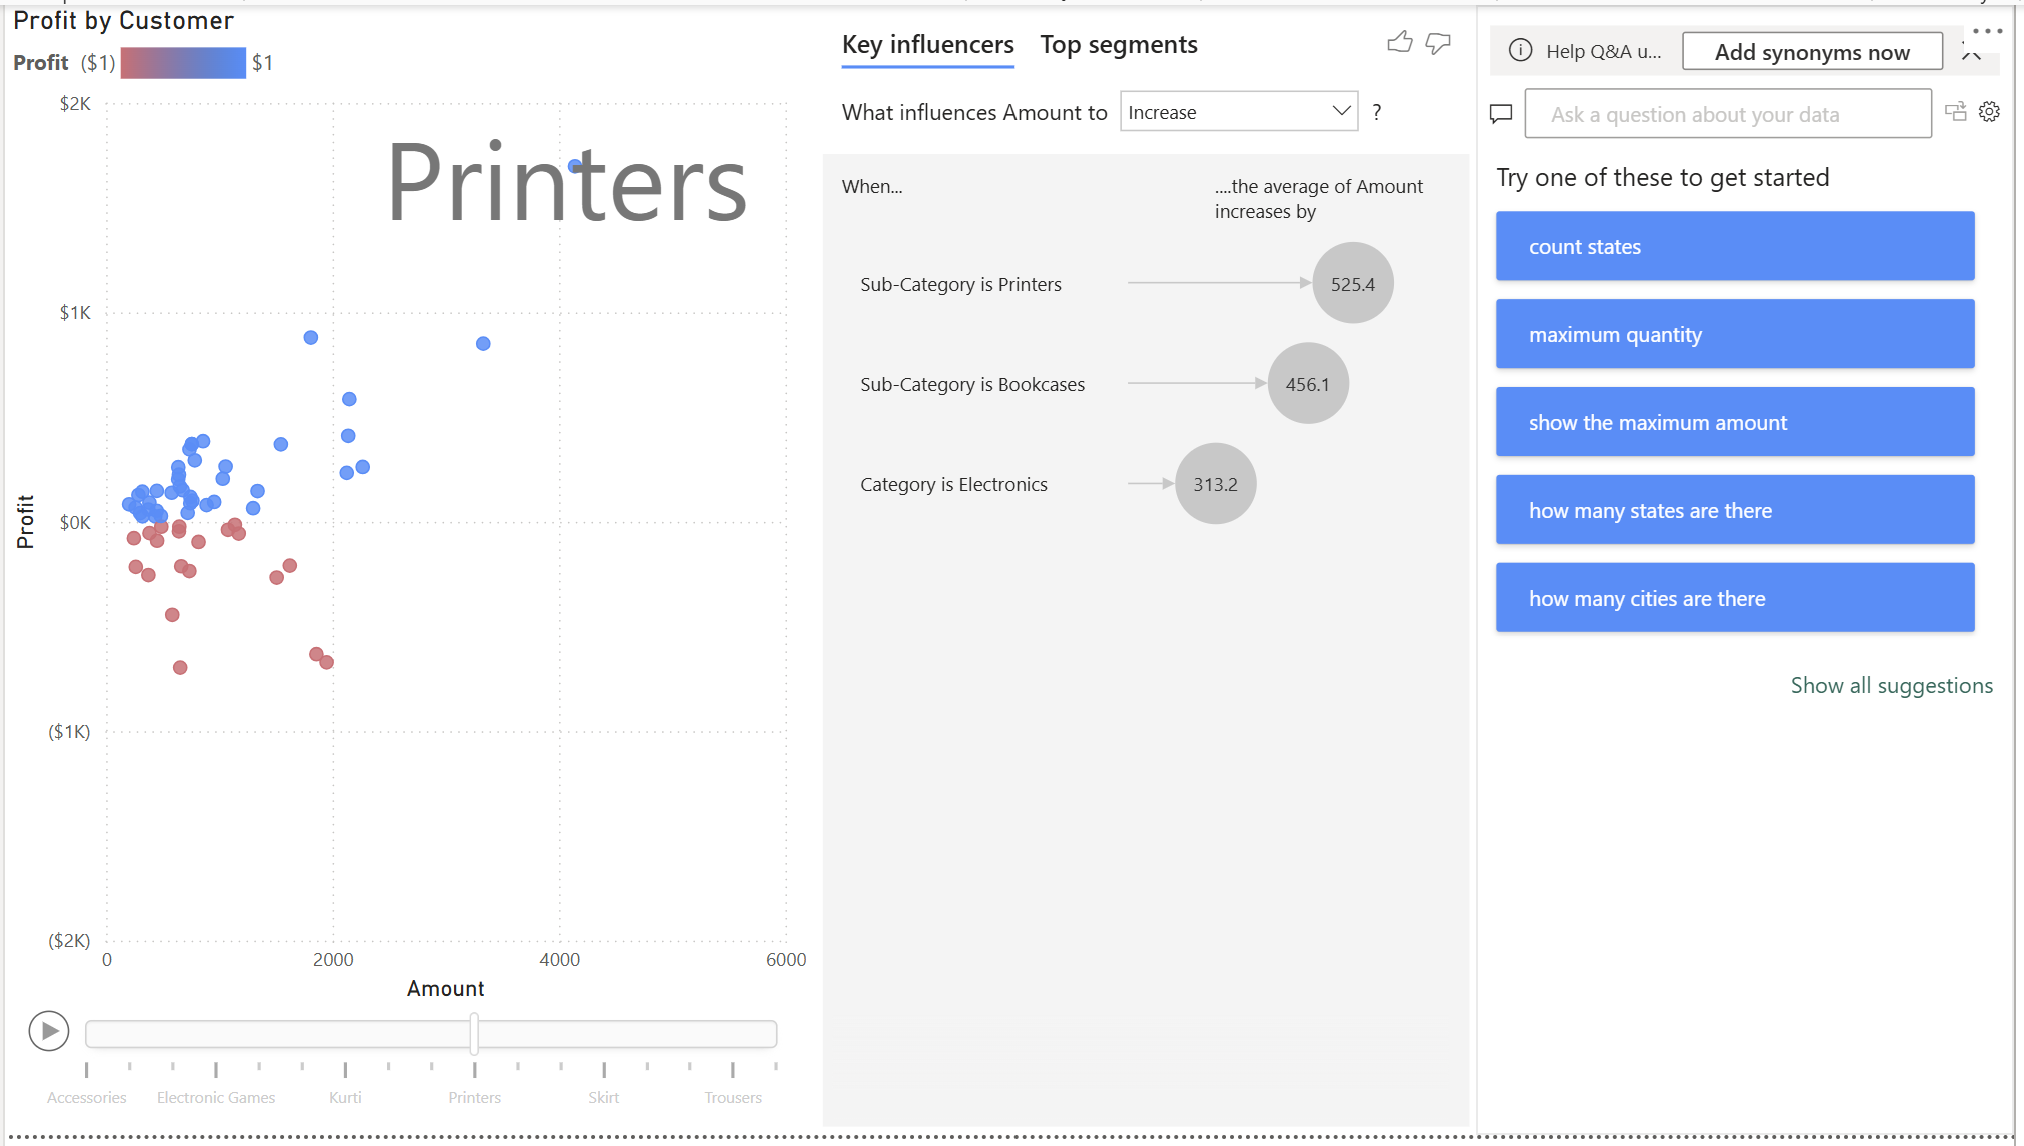

This screenshot's page, from the dashboard's own definition file:
{"tool":"powerbi","page":{"name":"Profit Insights","canvas":[1280,720],"ordinal":1},"visuals":[{"type":"scatterChart","title":"Profit by Customer","fields":{"Category":["List of Orders.CustomerName"],"X":["Sum(Order Details.Amount)"],"Y":["Sum(Order Details.Profit)"],"Play":["Order Details.Sub-Category"]},"box":[0,0,515.7,720],"z":0},{"type":"keyDriversVisual","fields":{"Target":["Order Details.Amount"],"ExplainBy":["Order Details.Category","Order Details.Sub-Category"]},"box":[515.7,0,421.4,720],"z":1000},{"type":"qnaVisual","box":[937.1,0,342.9,720],"z":2000}]}

Visuals, with their boxes on the page's 1280x720 design canvas (x1, y1, x2, y2). These are canvas units, not pixel positions in the 2024x1146 screenshot, which may show the page scaled, cropped or inside an application window:
"Profit by Customer" scatterChart: <region>0, 0, 516, 720</region>
keyDriversVisual - Order Details.Amount x Order Details.Category: <region>516, 0, 937, 720</region>
qnaVisual: <region>937, 0, 1280, 720</region>
